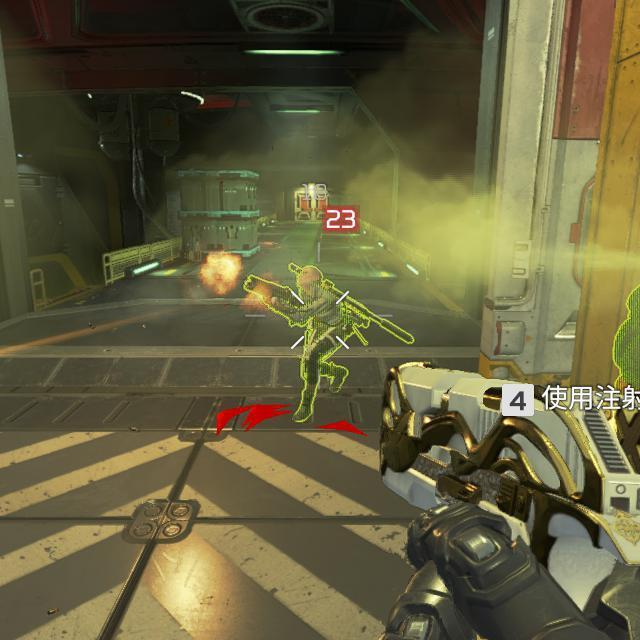avatar: (285, 263, 357, 426)
